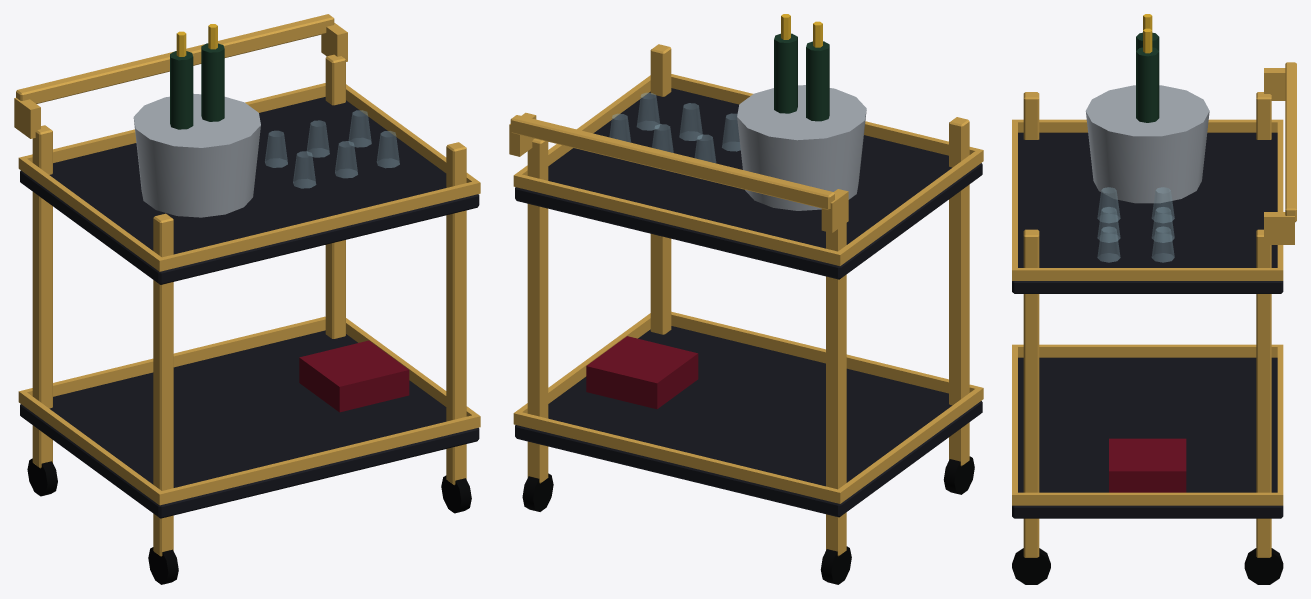
Rendered from champagne_cart.glb.
3 views of the same model, side by side, from view 1: azimuth 30°, elevation 25°; view 2: azimuth 150°, elevation 25°; view 3: azimuth 270°, elevation 25° (orthographic). The views are drawn at different scales.
Visible parts, largest first — view 1: champagne_cart; view 2: champagne_cart; view 3: champagne_cart.
Part boxes in pixels (x1=…): champagne_cart: x1=14, y1=14, x2=480, y2=584; champagne_cart: x1=509, y1=14, x2=983, y2=584; champagne_cart: x1=1012, y1=14, x2=1296, y2=584.
Bounding box in the file's own units: 0.92 × 1.33 × 0.735.
